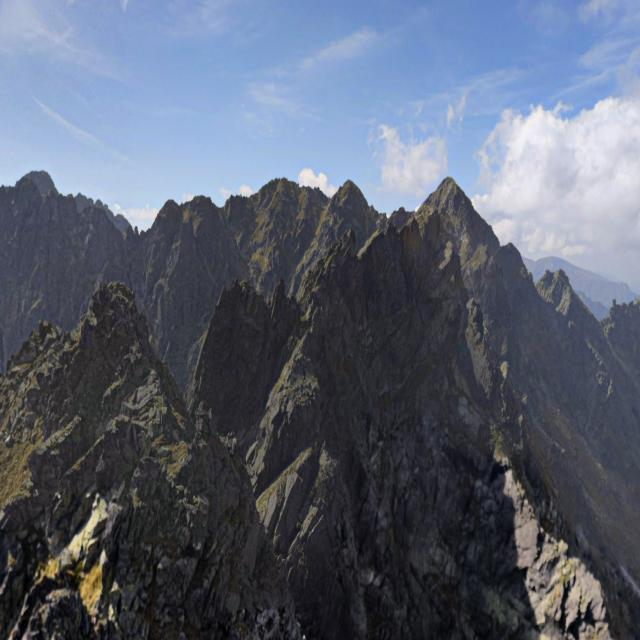Skrajny i Posredni Granat: (226, 22, 531, 394)
